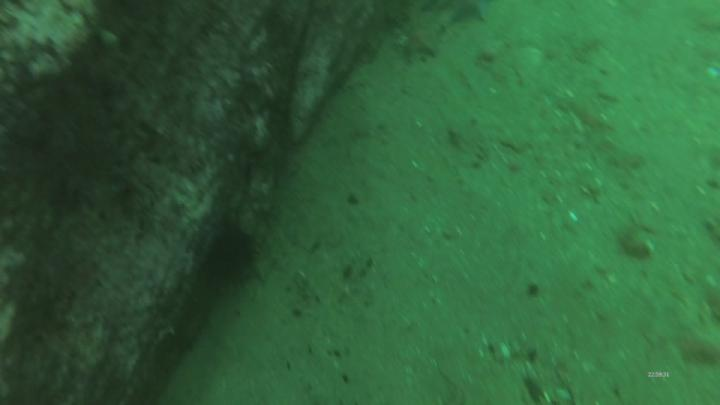echinus: (205, 229, 257, 288)
holothurian: (249, 244, 286, 279)
starfish: (400, 24, 440, 63)
